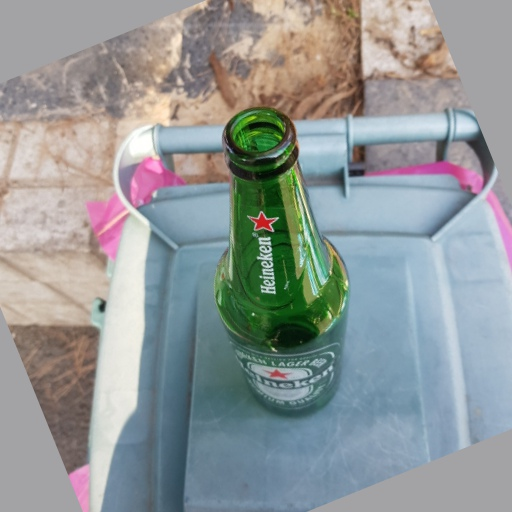Glass_1: (206, 104, 362, 425)
